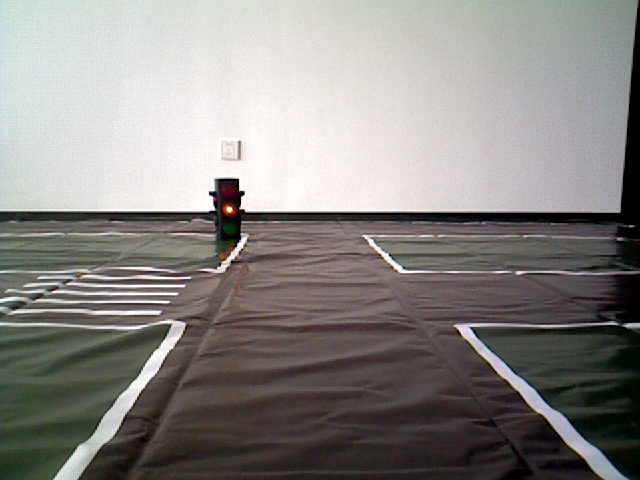yellow: (214, 177, 239, 238)
